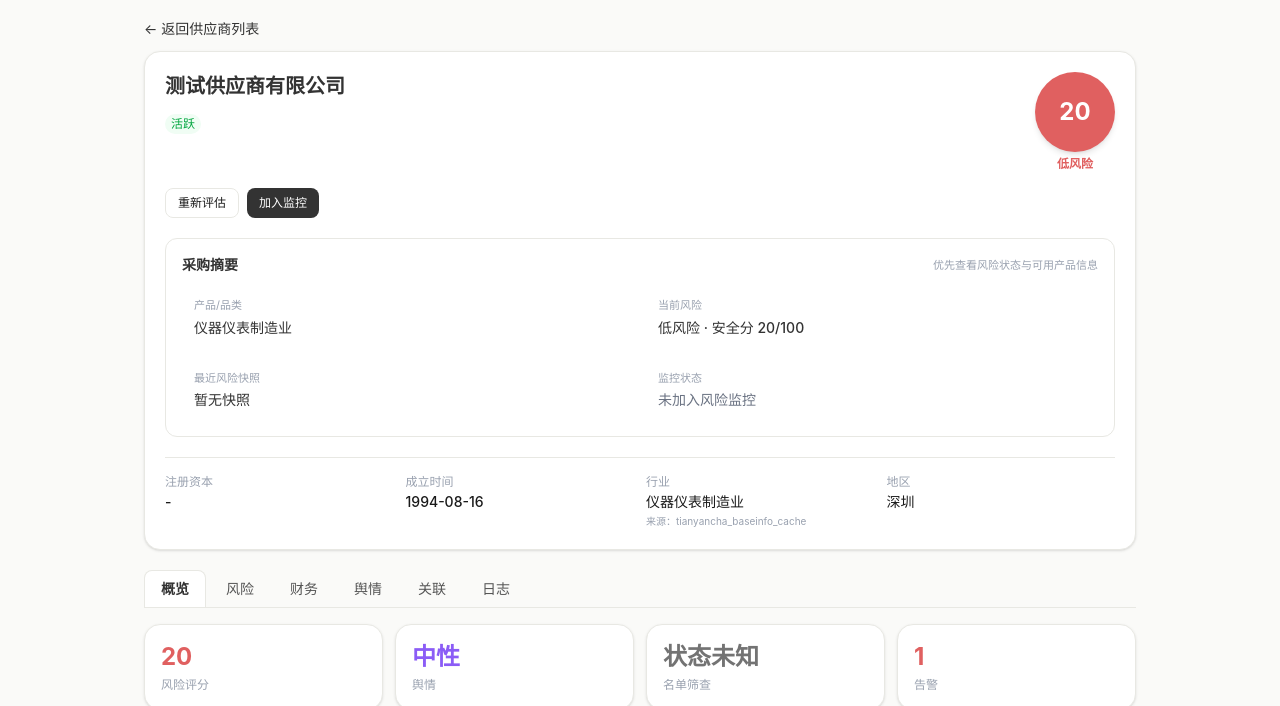
Test: SupplierProfilePage › shows append-only risk assessment versions
The width and height of the screenshot is (1280, 706).
Expected: the heading "测试供应商有限公司" is shown, [165, 74, 345, 98]
Click the button "风险": (240, 588) [210, 570, 270, 607]
(page scrolled)
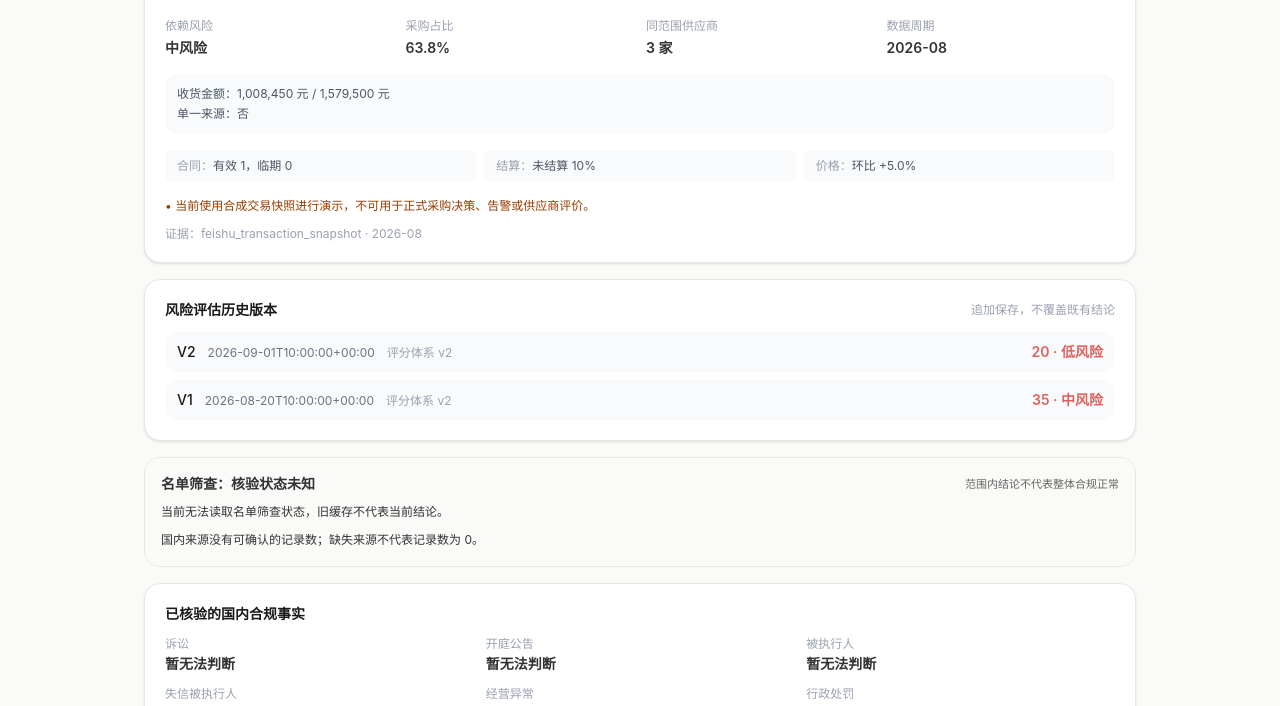
Expected: the heading "风险评估历史版本" is shown, [165, 300, 277, 320]
Expected: the text "V2" is shown, [177, 343, 196, 360]
Expected: the text "评分体系 v2" next to "2026-09-01T10:00:00+00:00" is shown, [387, 345, 452, 360]
